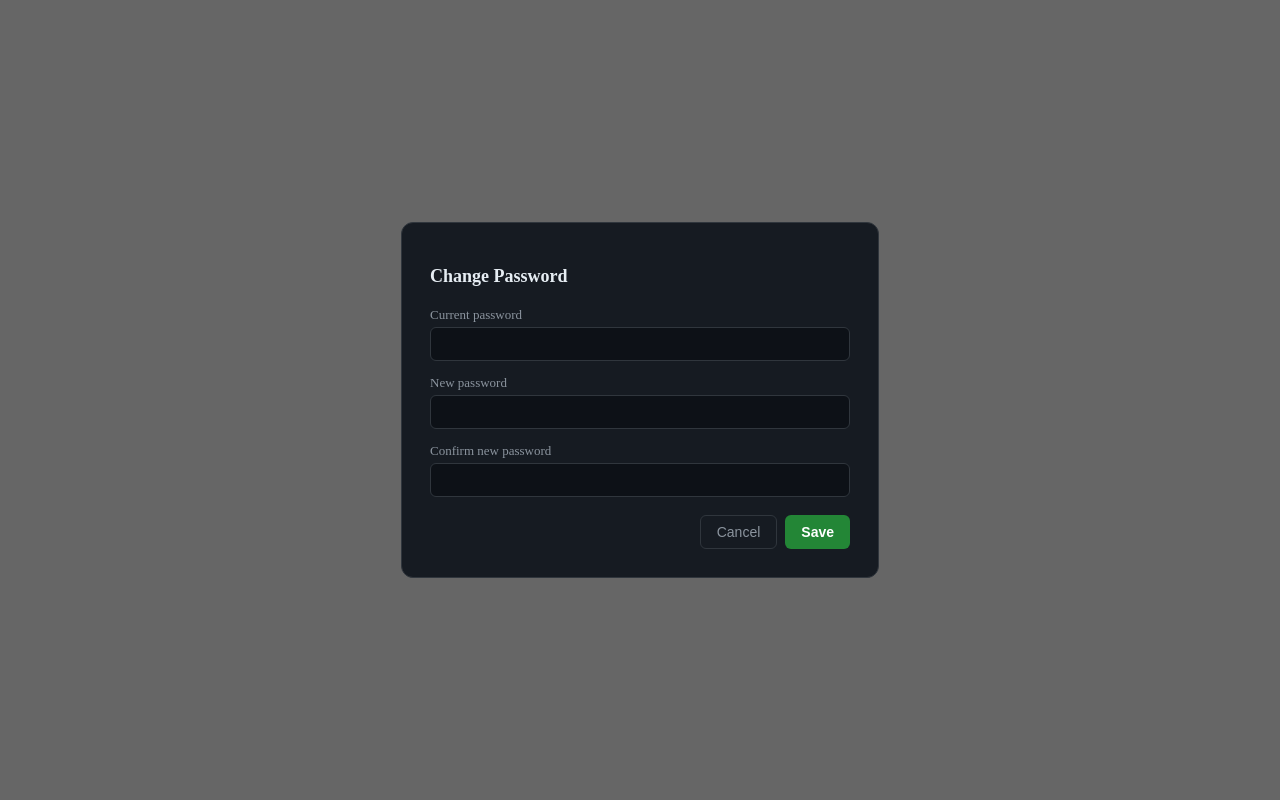
Test: ChangePasswordModal › shows error when new equals current
In the password field labelled "Current password": (640, 344) [430,327,850,361], type "samepass1"
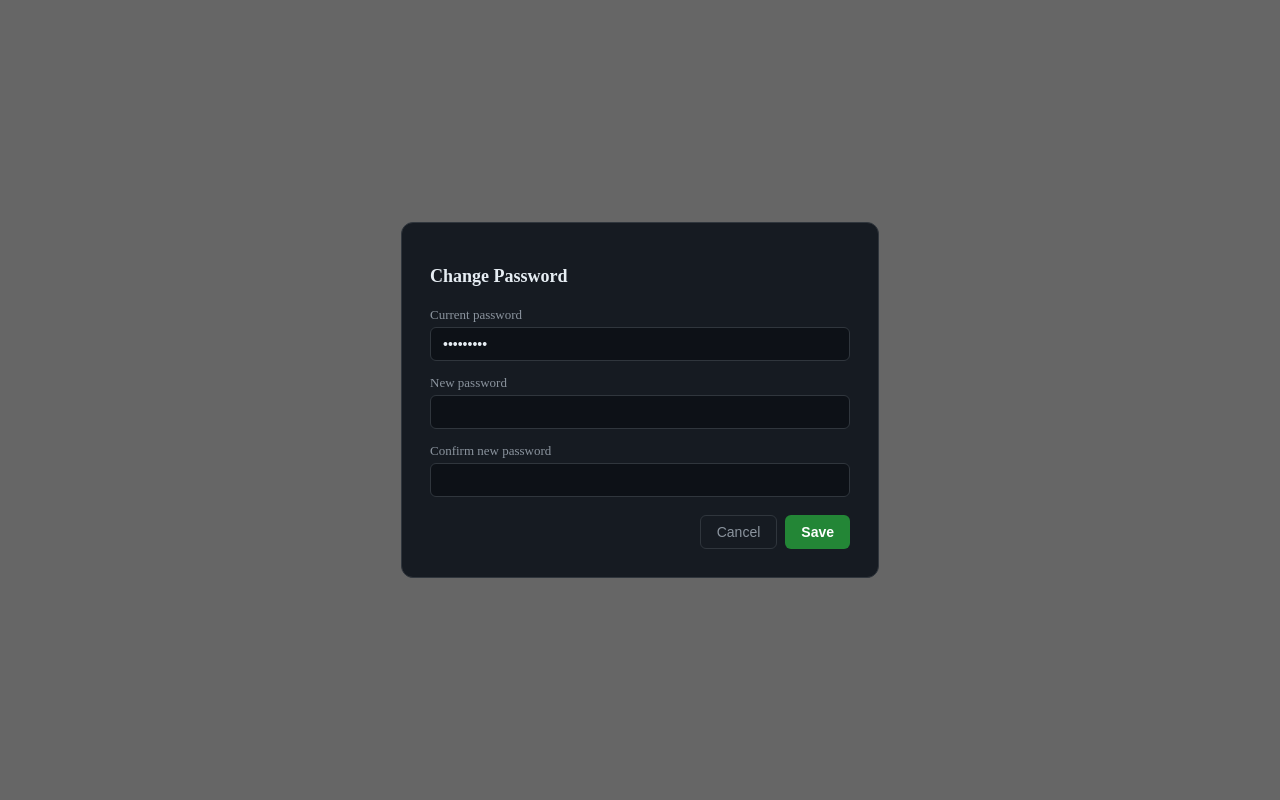
In the password field labelled "New password": (640, 412) [430,395,850,429], type "samepass1"
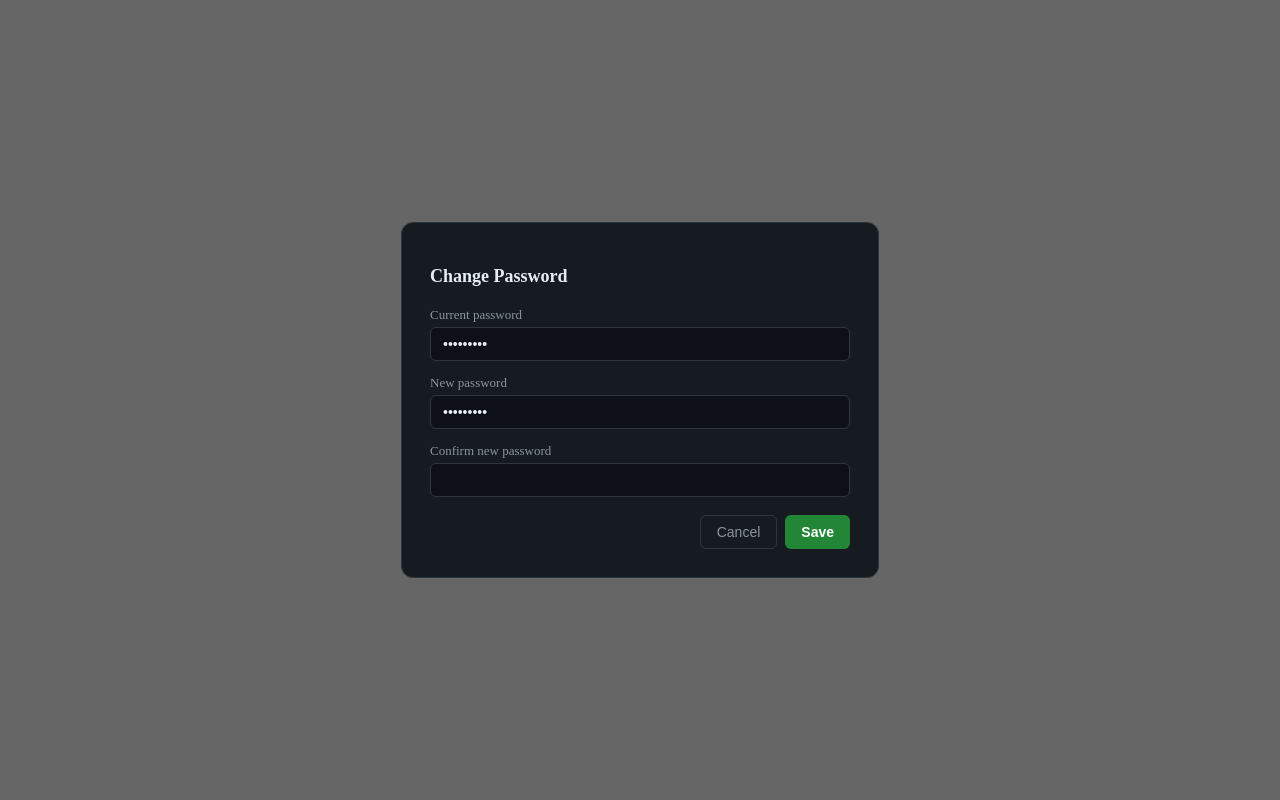
In the password field labelled "Confirm new password": (640, 480) [430,463,850,497], type "samepass1"
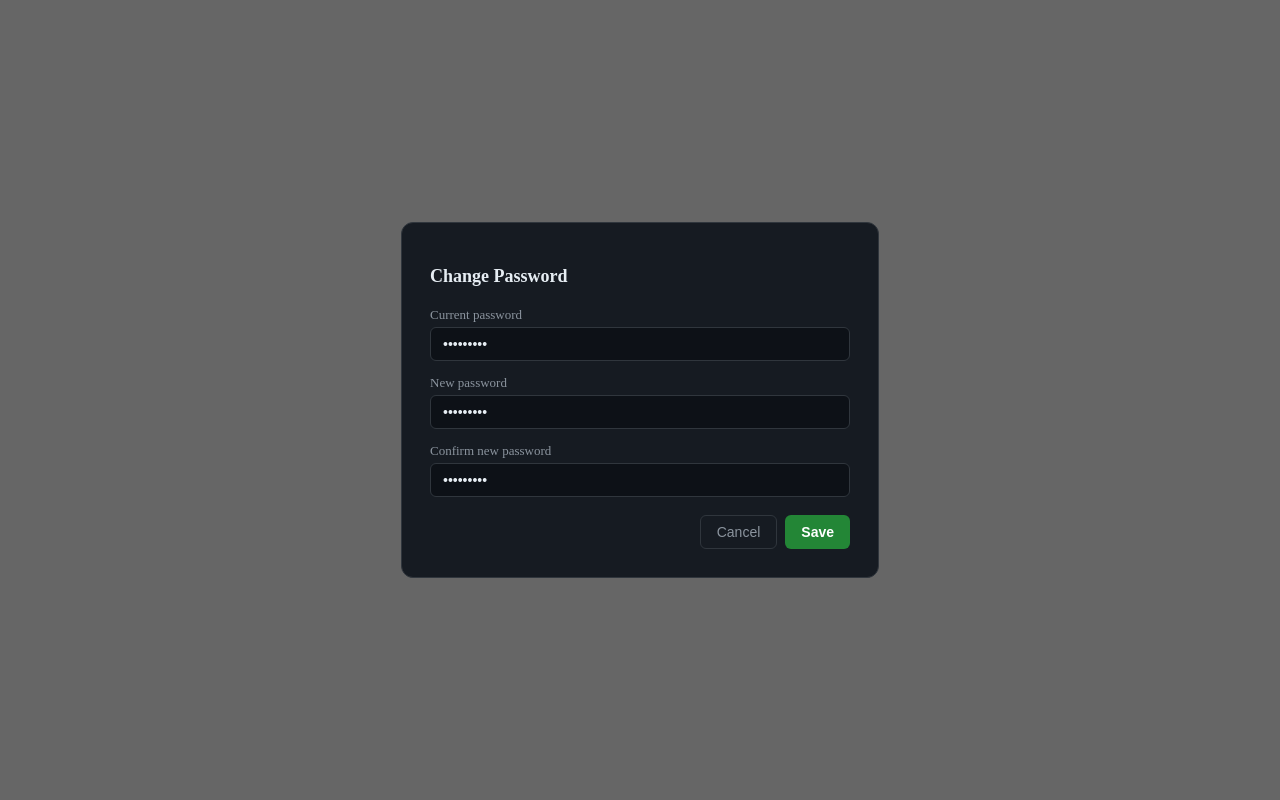
Click the button "Save": (818, 532) [785,515,850,549]
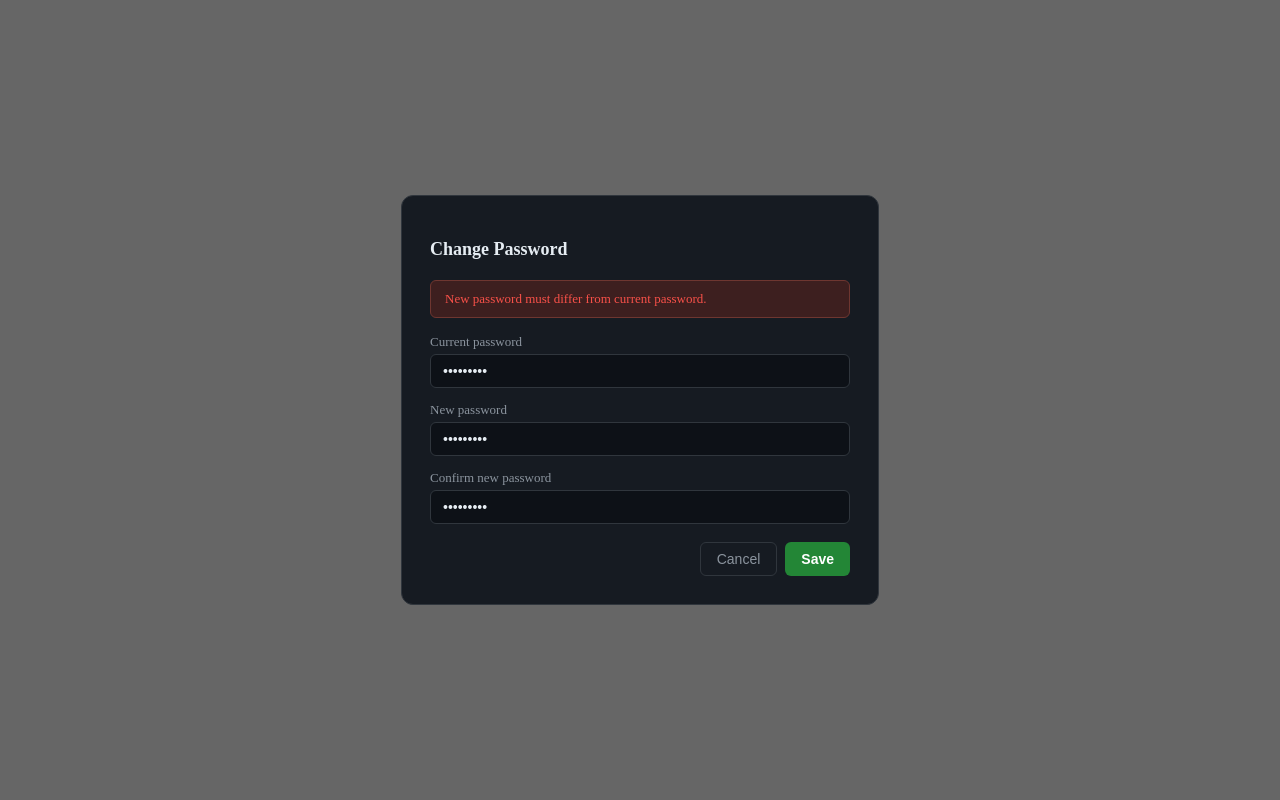
Expected: the text "New password must differ from current password." is shown, [430,280,850,318]
